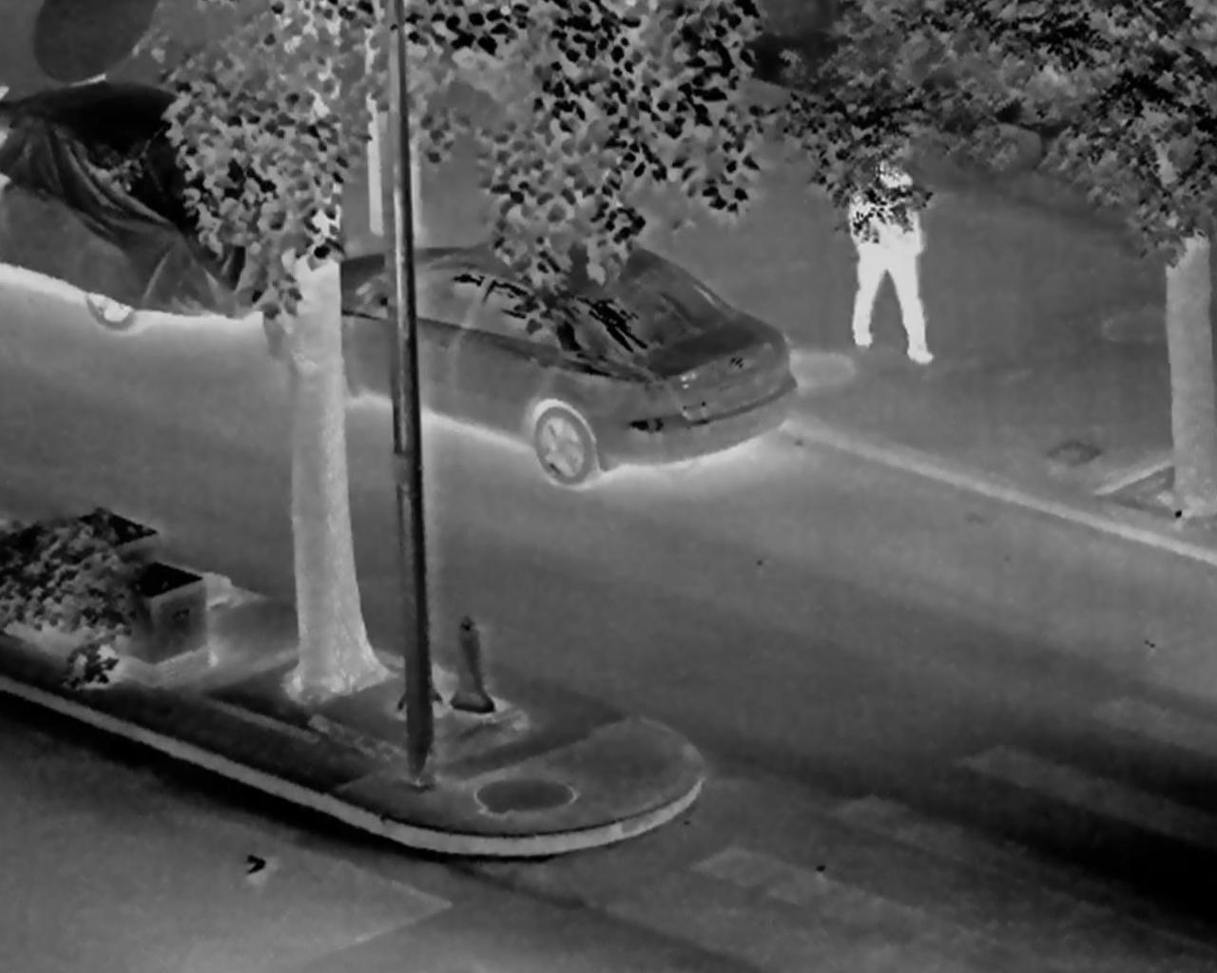person: (846, 153, 935, 369)
